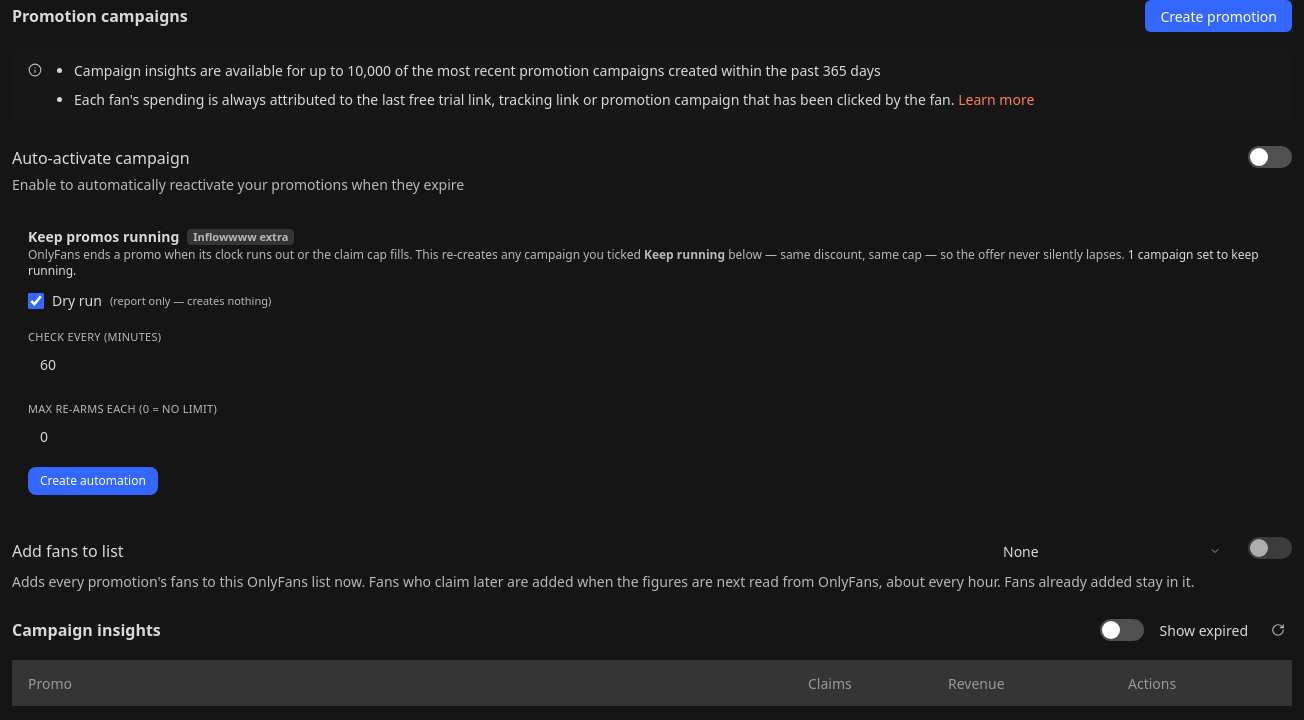
PromotionTab › lists only campaigns on offer until Show expired, in Infloww's table with bundles under it
Expected: the text "Old one" is not shown
Expected: the column headings read "Promo", "Claims", "Revenue", "Actions", in this order, [12,660,792,706]; [792,660,932,706]; [932,660,1112,706]; [1112,660,1292,706]
Click the switch labelled "Show expired" at (1174, 630), box [1100,619,1248,641]
(page scrolled)
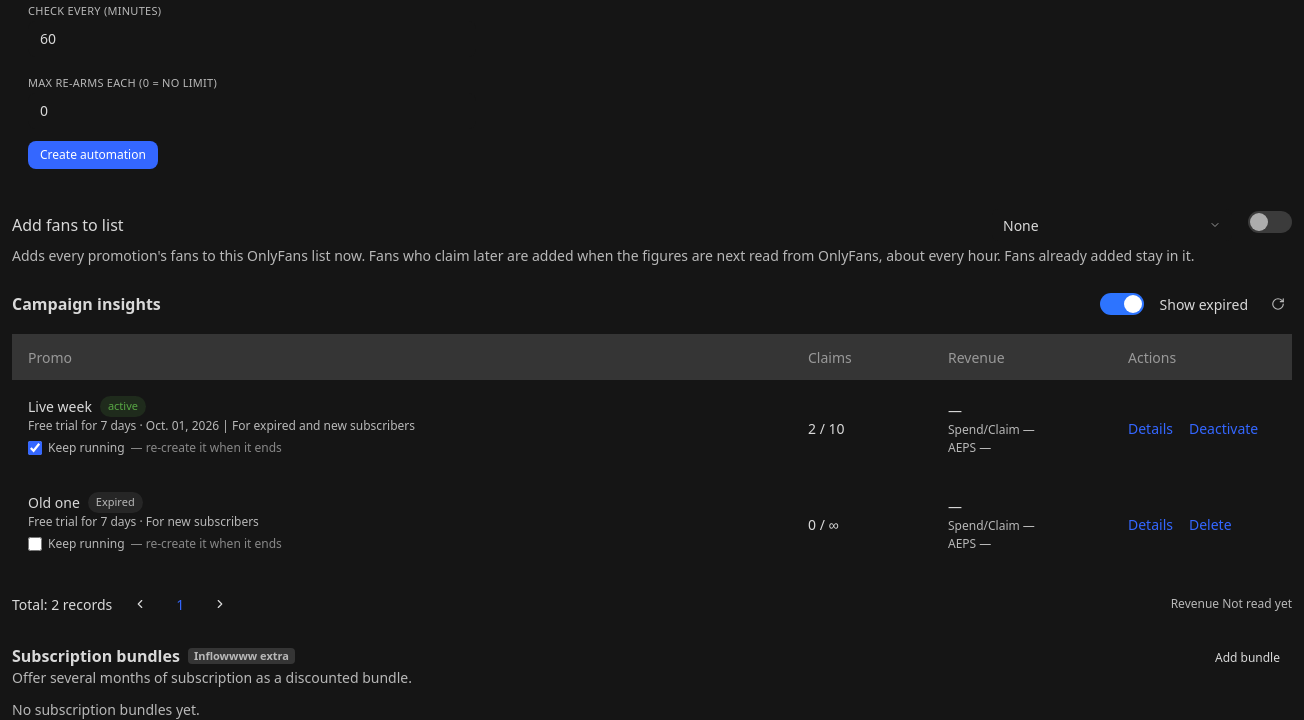
Expected: the text "Old one" is shown, [28,492,80,513]
Expected: the text "0 / ∞" is shown, [792,476,932,572]
